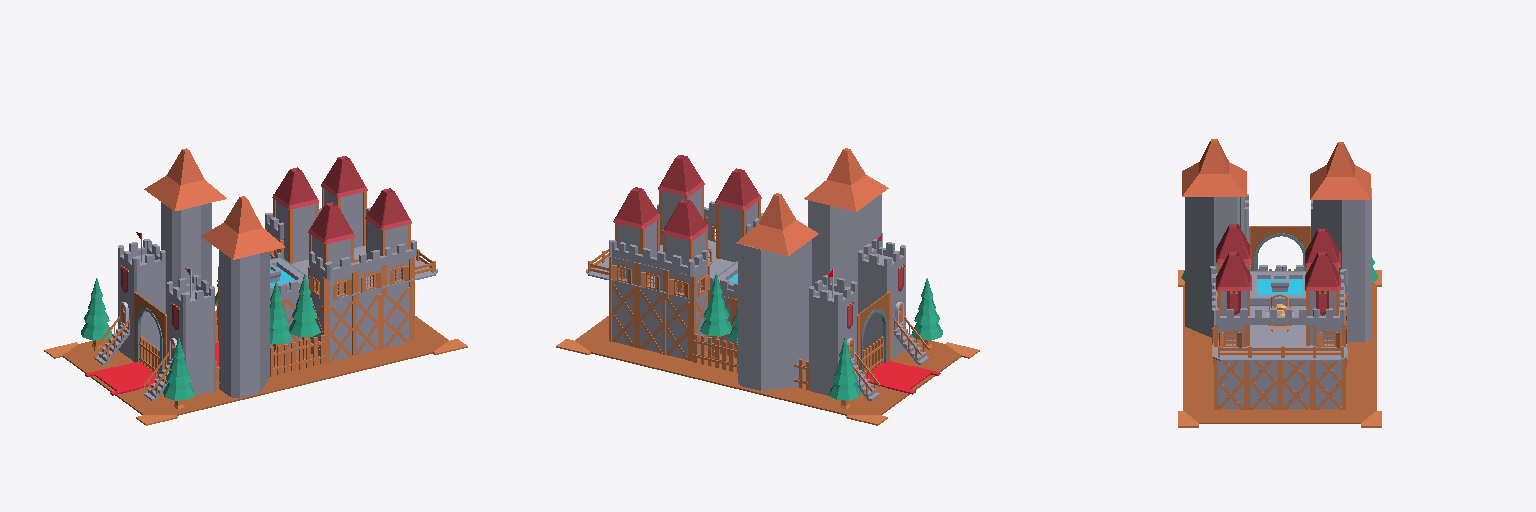
The model's file is castel.obj.
The picture shows the model from 3 angles: view 1: azimuth 30°, elevation 25°; view 2: azimuth 150°, elevation 25°; view 3: azimuth 270°, elevation 25°; orthographic projection.
Size of the model in its own units: 11.3 by 6.28 by 6.2.